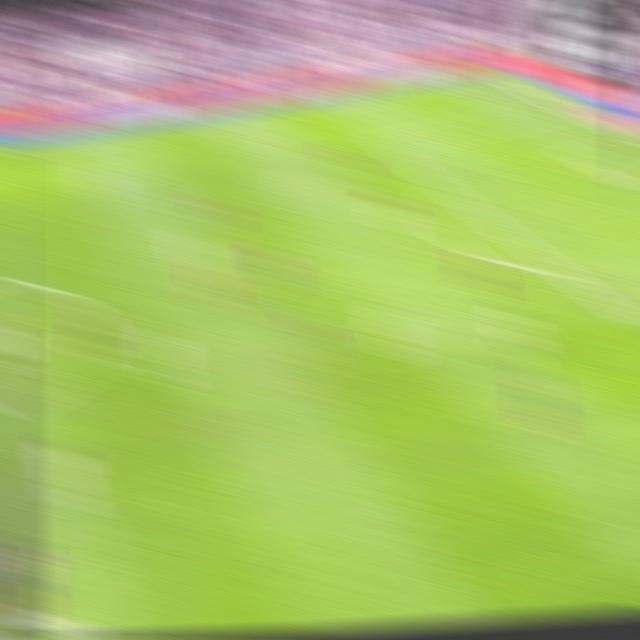bigarea_top_inner: (371, 133, 400, 153)
bigarea_top_outter: (545, 97, 576, 117)
bottom_arc_area_intersection: (543, 257, 576, 283)
corner: (470, 63, 500, 80)
smallarea_top_inner: (564, 150, 592, 167)
top_arc_area_intersection: (436, 181, 469, 205)
